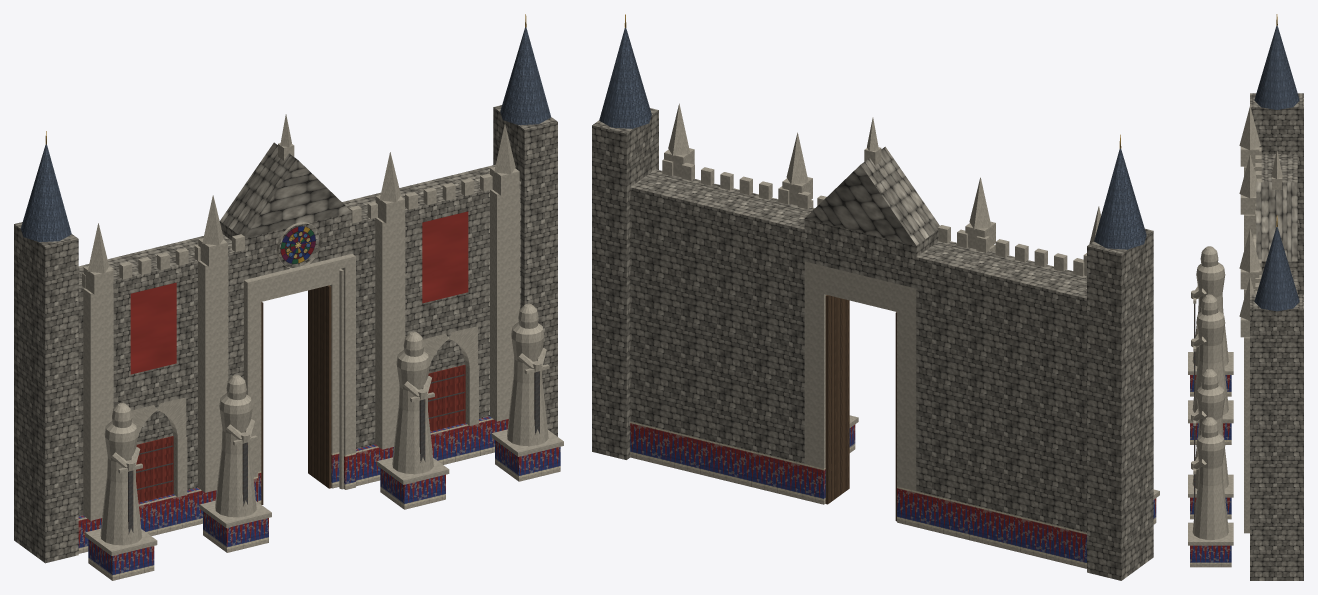
File: Palace_Imperial_Facade_1.gltf
3 renders of one model, left to right at view 1: azimuth 30°, elevation 25°; view 2: azimuth 150°, elevation 25°; view 3: azimuth 270°, elevation 25°, orthographic. The views are drawn at different scales.
Visible parts, largest first — view 1: Palace_Imperial_Facade_1; view 2: Palace_Imperial_Facade_1; view 3: Palace_Imperial_Facade_1.
Part boxes in pixels (x1=…): Palace_Imperial_Facade_1: x1=14, y1=14, x2=563, y2=580; Palace_Imperial_Facade_1: x1=592, y1=14, x2=1159, y2=580; Palace_Imperial_Facade_1: x1=1188, y1=14, x2=1303, y2=580.
Size of the model in its own units: 50.4 by 38.2 by 11.2.
10 materials, 10 textured.
